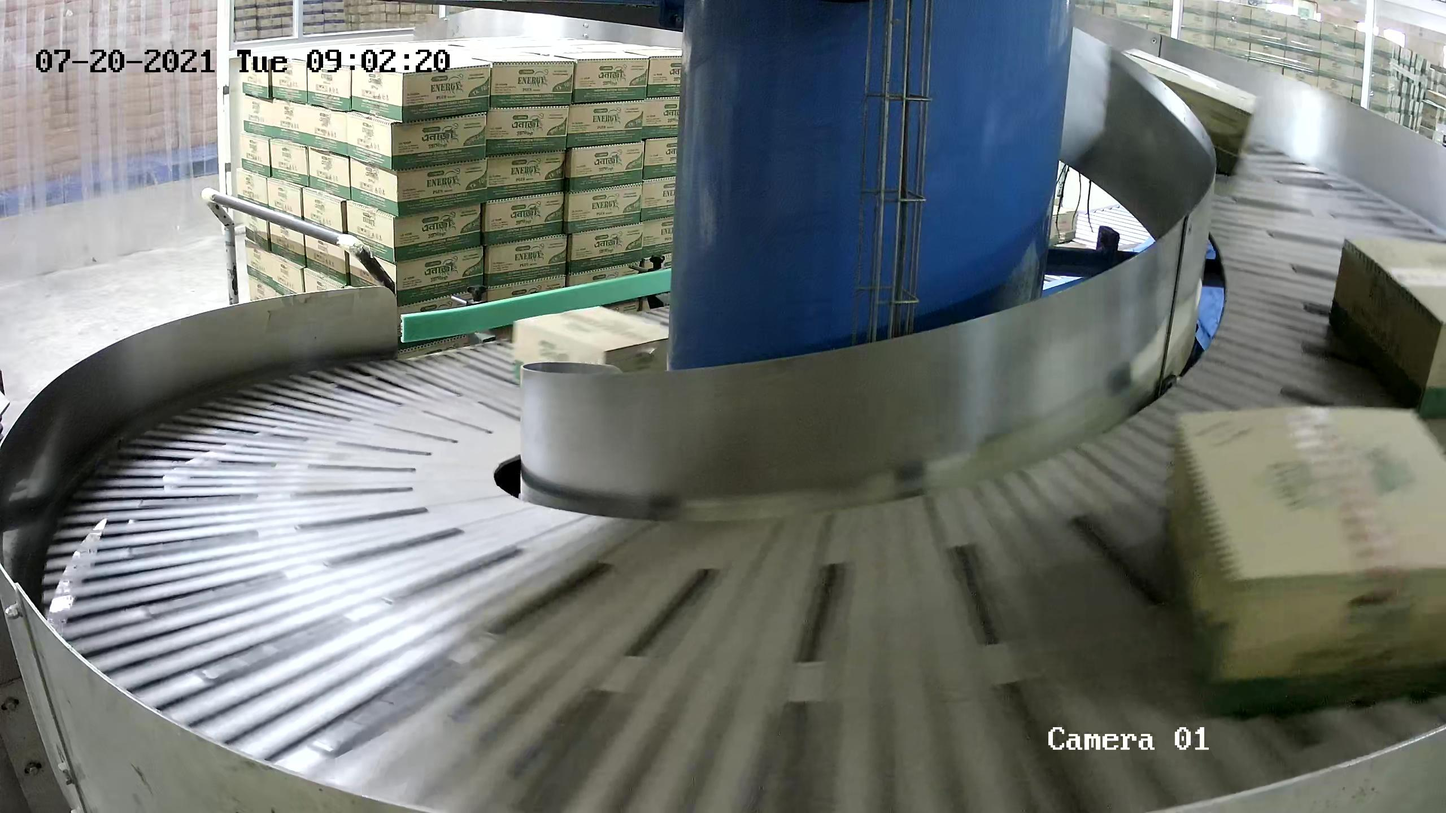Box: (1159, 400, 1446, 715), (1327, 233, 1446, 423), (1116, 46, 1260, 177), (510, 303, 669, 386)
